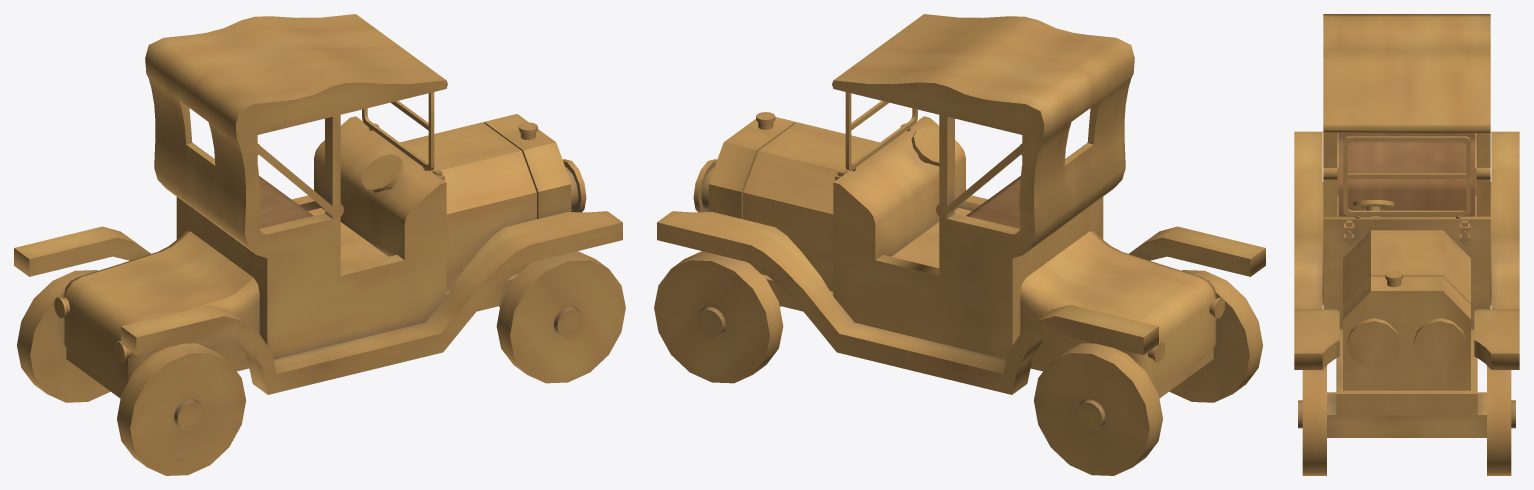
The model's file is toy_car.glb.
3 renders of one model, left to right at view 1: azimuth 30°, elevation 25°; view 2: azimuth 150°, elevation 25°; view 3: azimuth 270°, elevation 25°, orthographic. The views are drawn at different scales.
Parts seen in each view (by area): view 1: ToyCar_Mesh; view 2: ToyCar_Mesh; view 3: ToyCar_Mesh.
Part boxes in pixels (x1,y1,x2,y2): ToyCar_Mesh: (14,14,625,475); ToyCar_Mesh: (654,14,1265,475); ToyCar_Mesh: (1294,14,1519,475).
Size of the model in its own units: 530 by 351 by 226.
Materials: 1 (1 with a texture image).
